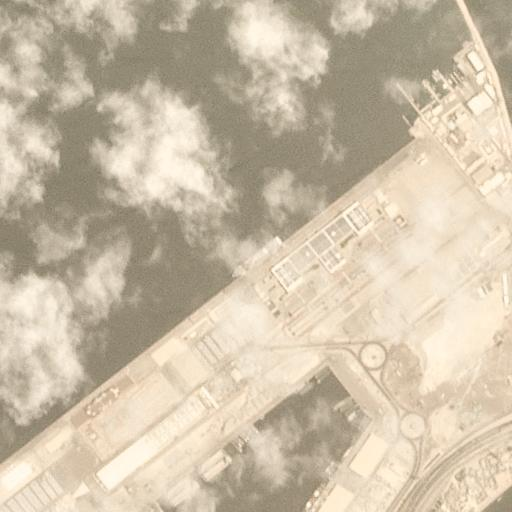ship: (97, 71, 247, 245), (214, 0, 340, 89), (230, 236, 282, 276), (316, 127, 347, 163), (99, 253, 112, 301), (286, 190, 310, 202)
